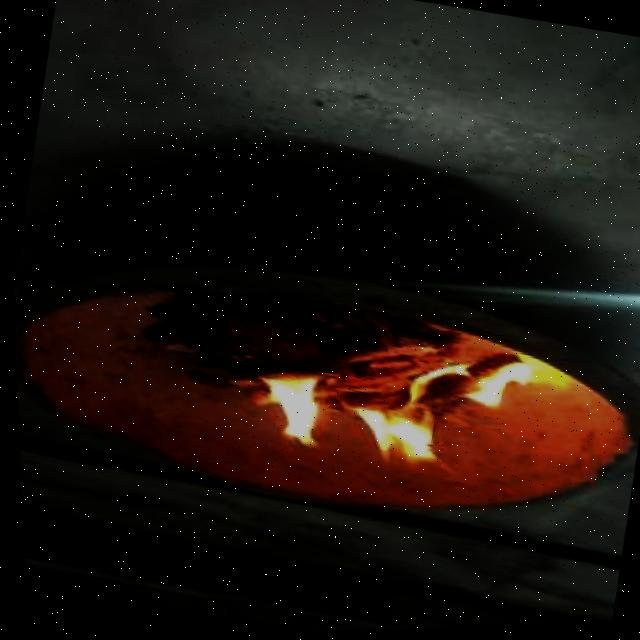Fire: (247, 308, 564, 510)
